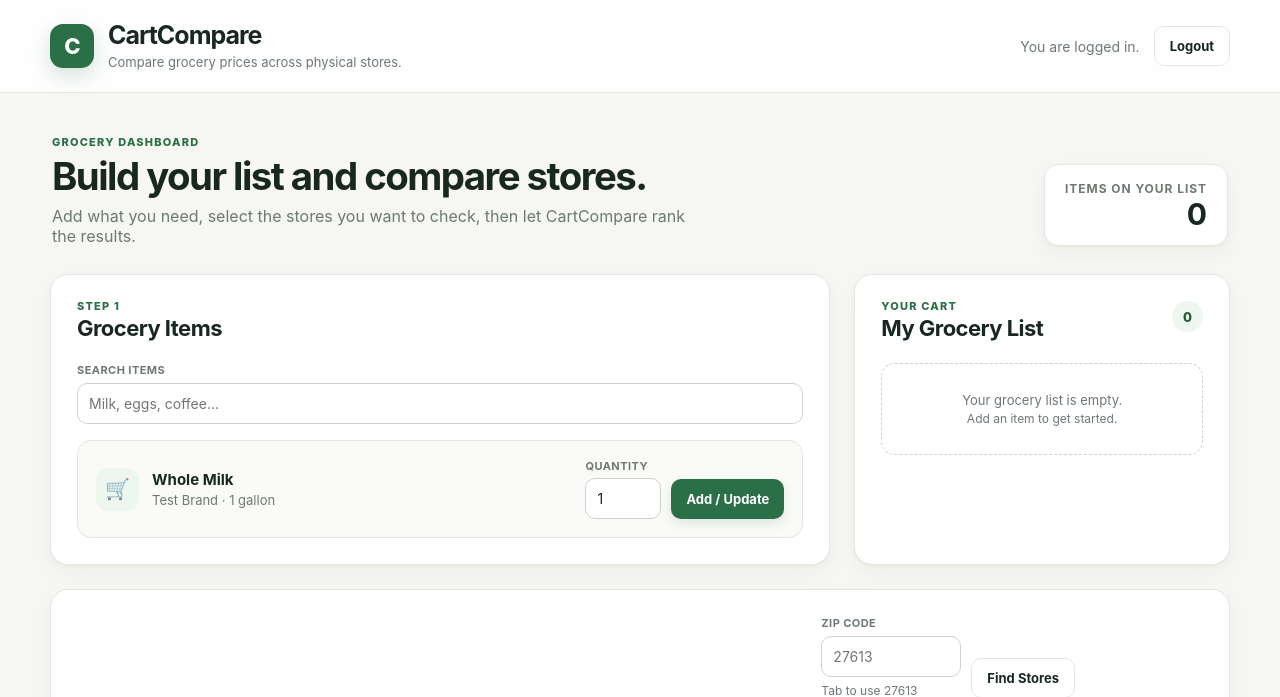
Test case: App grocery list › adds an item and refreshes the grocery list
The width and height of the screenshot is (1280, 697).
Expected: the heading "Whole Milk" is shown, [152,470,234,489]
Replace the text in the number field labelled "Quantity" with "3" at (624, 498), box [586,478,662,519]
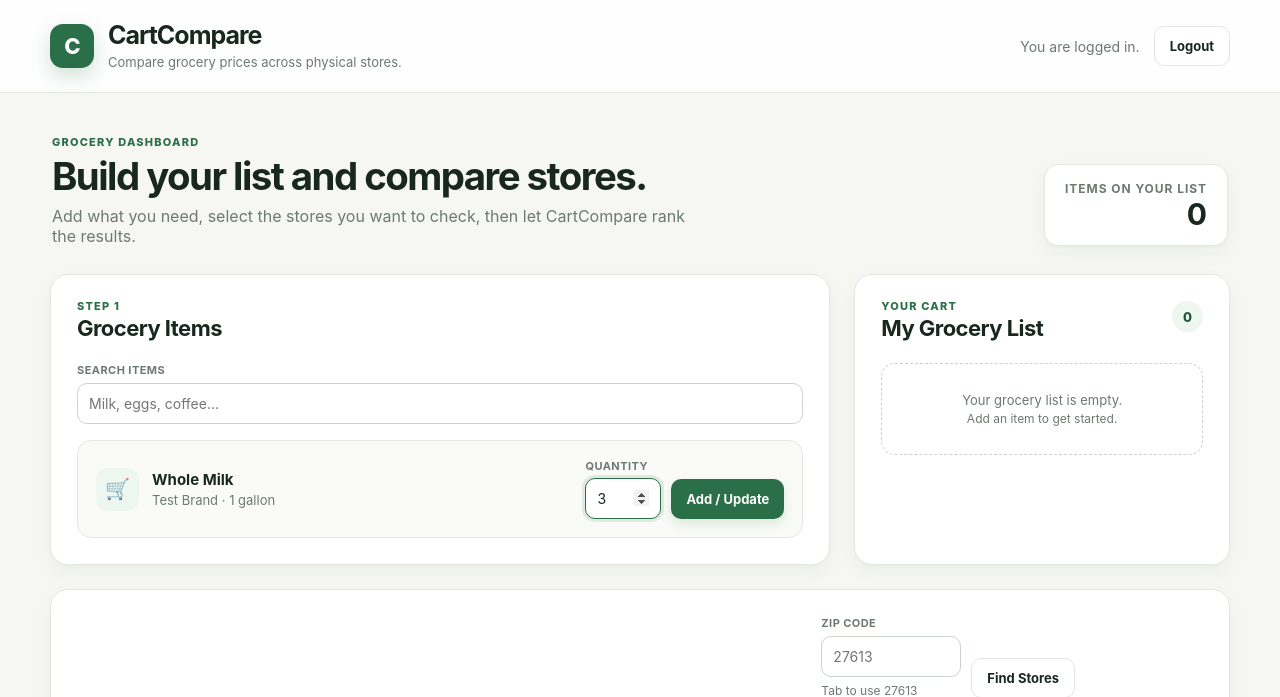
Click the button "Add / Update" at (728, 499), box [672,479,784,519]
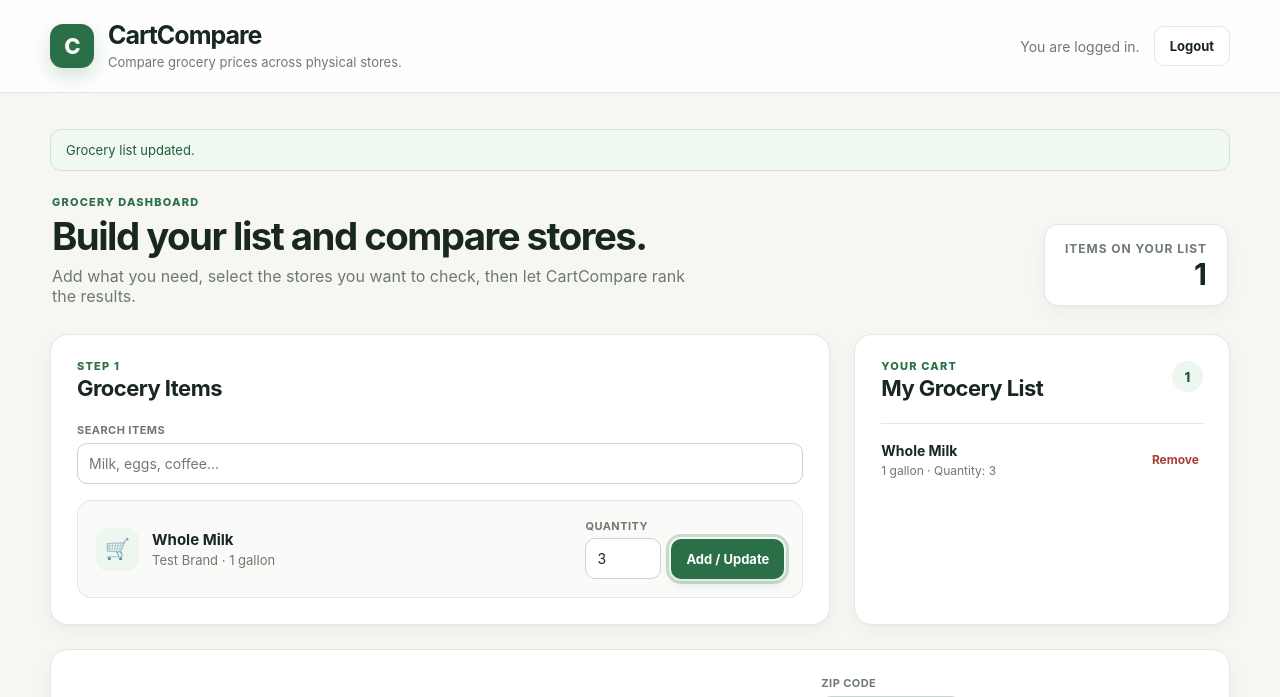
Now the text "Grocery list updated." is shown, box [50,129,1230,171]
Now the text "1 gallon · Quantity: 3" is shown, box [881,463,996,478]
